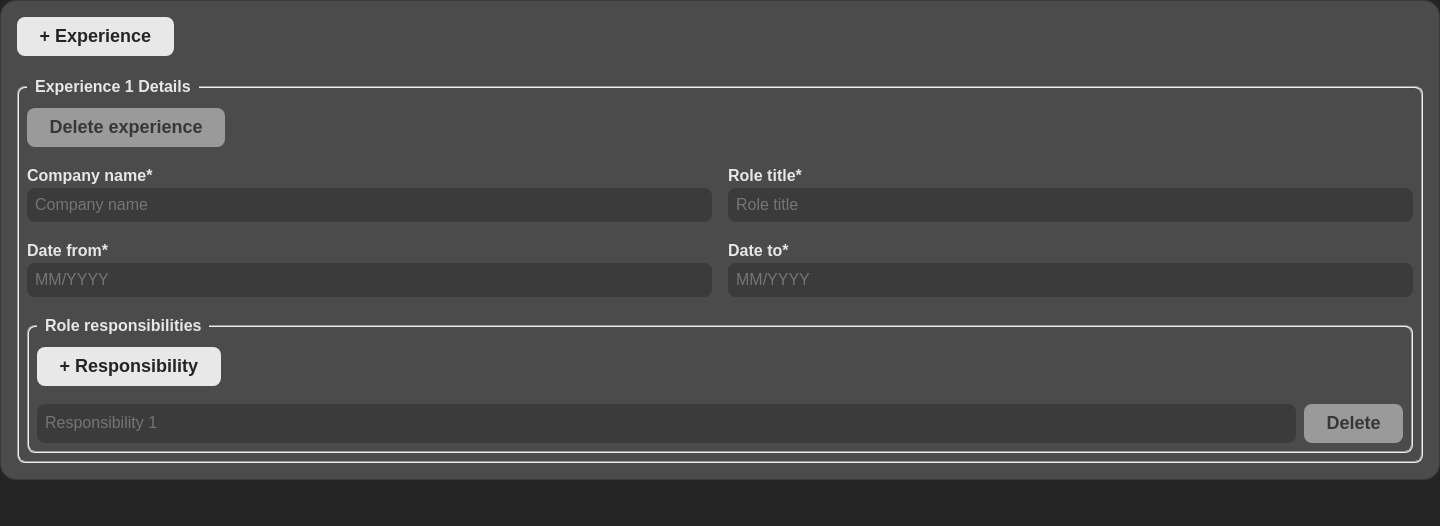
Test: Testing the Experience component › Testing form validation › Shows error when an invalid character is input into date from and date to
Type "@" into the field labelled "Date from*". click: (370, 280)
box: x1=27 y1=263 x2=712 y2=297
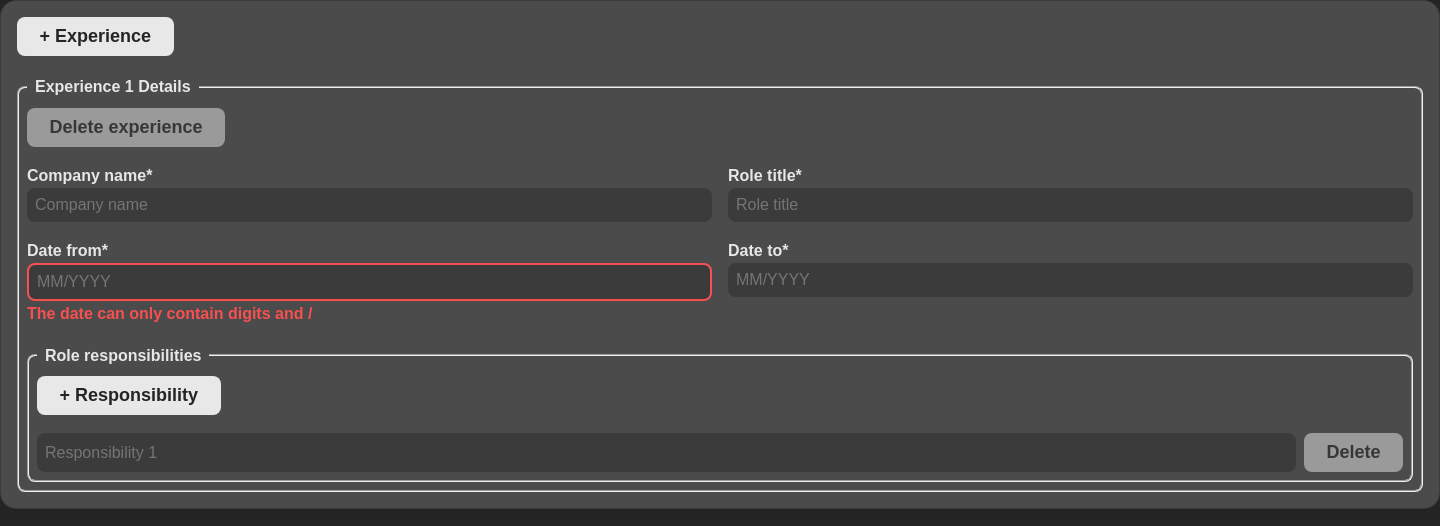
Type "@" into the field labelled "Date to*". click: (1070, 280)
box: x1=728 y1=263 x2=1413 y2=297
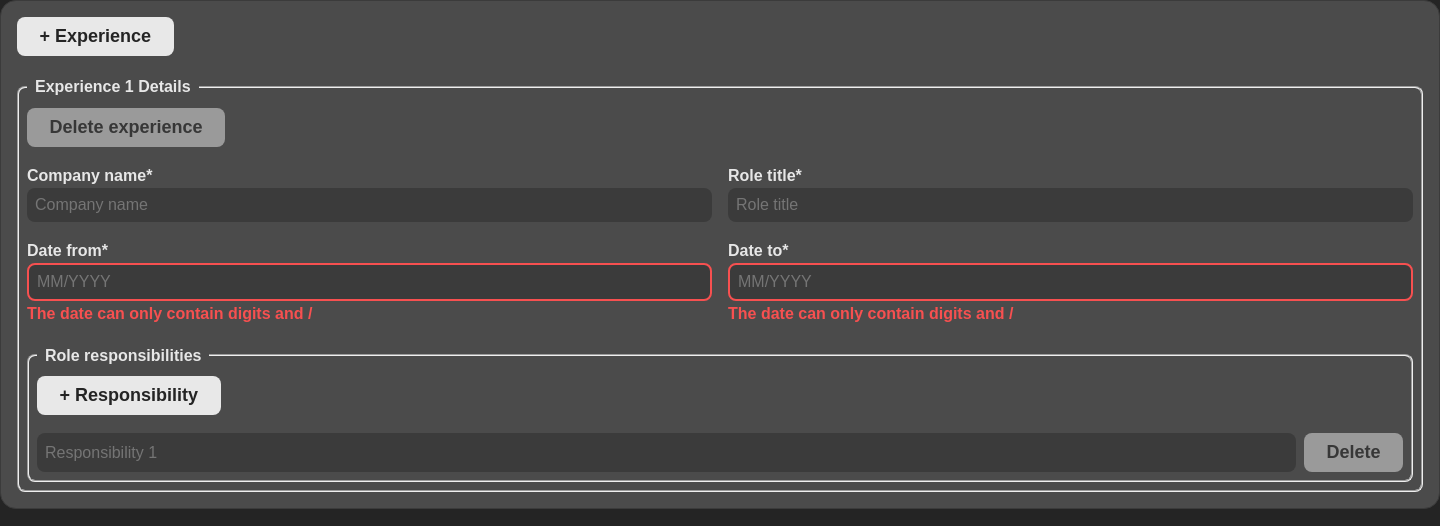
Expected: the text "The date can only contain digits and /" is shown 2 times, x1=27 y1=305 x2=312 y2=322; x1=728 y1=305 x2=1013 y2=322
